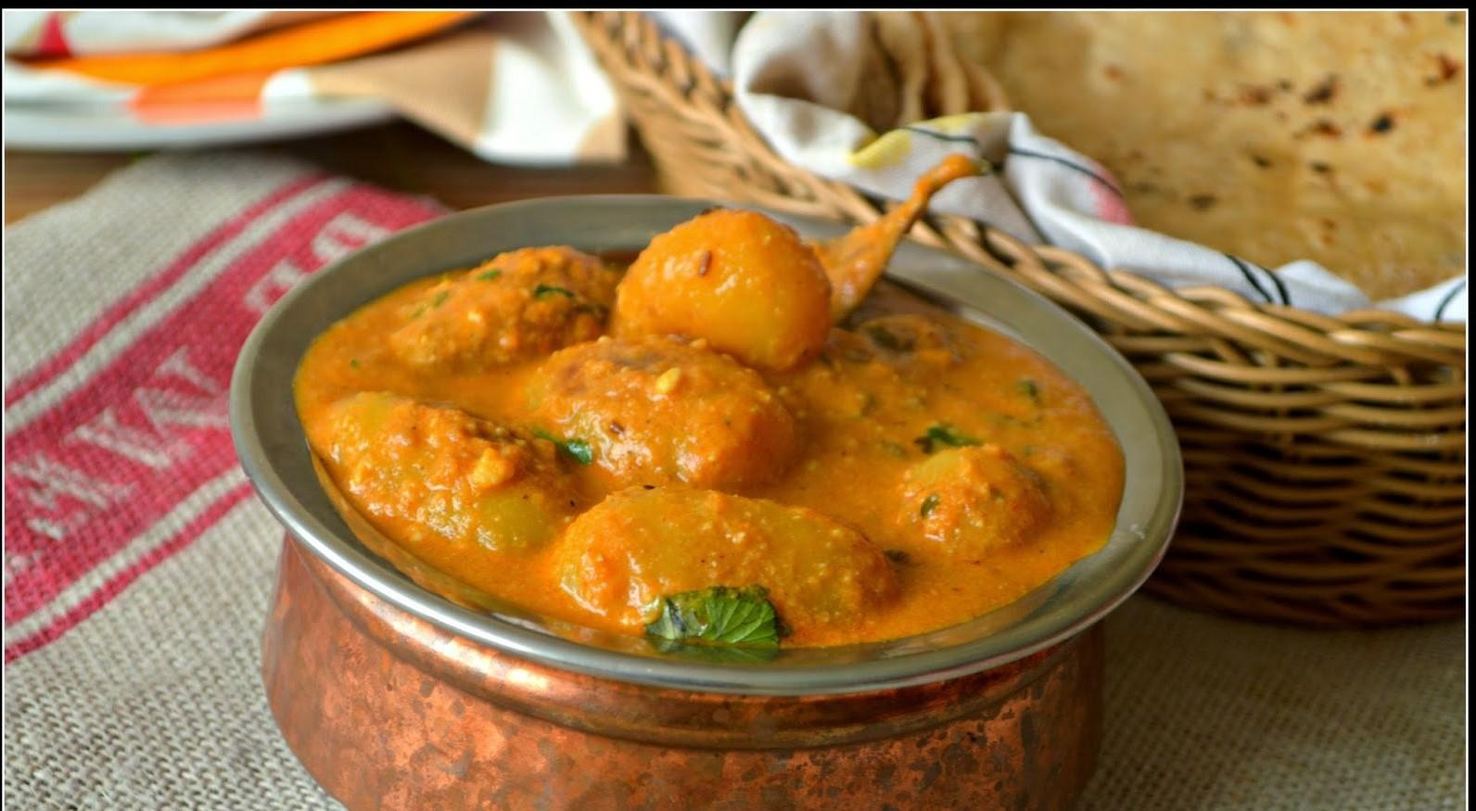DumAloo: (291, 150, 1131, 651)
